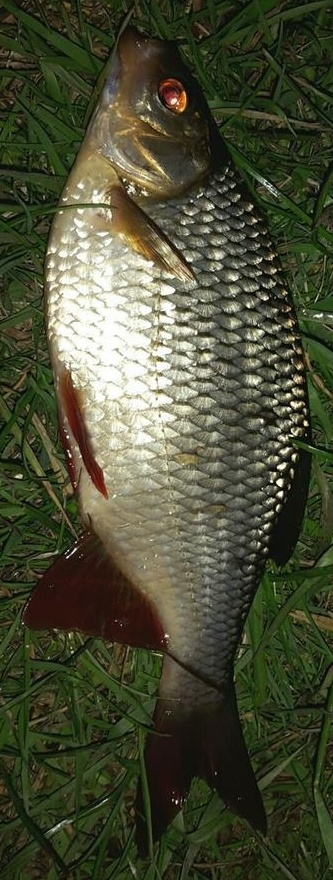Scardinius erythrophthalmus: (20, 20, 313, 860)
